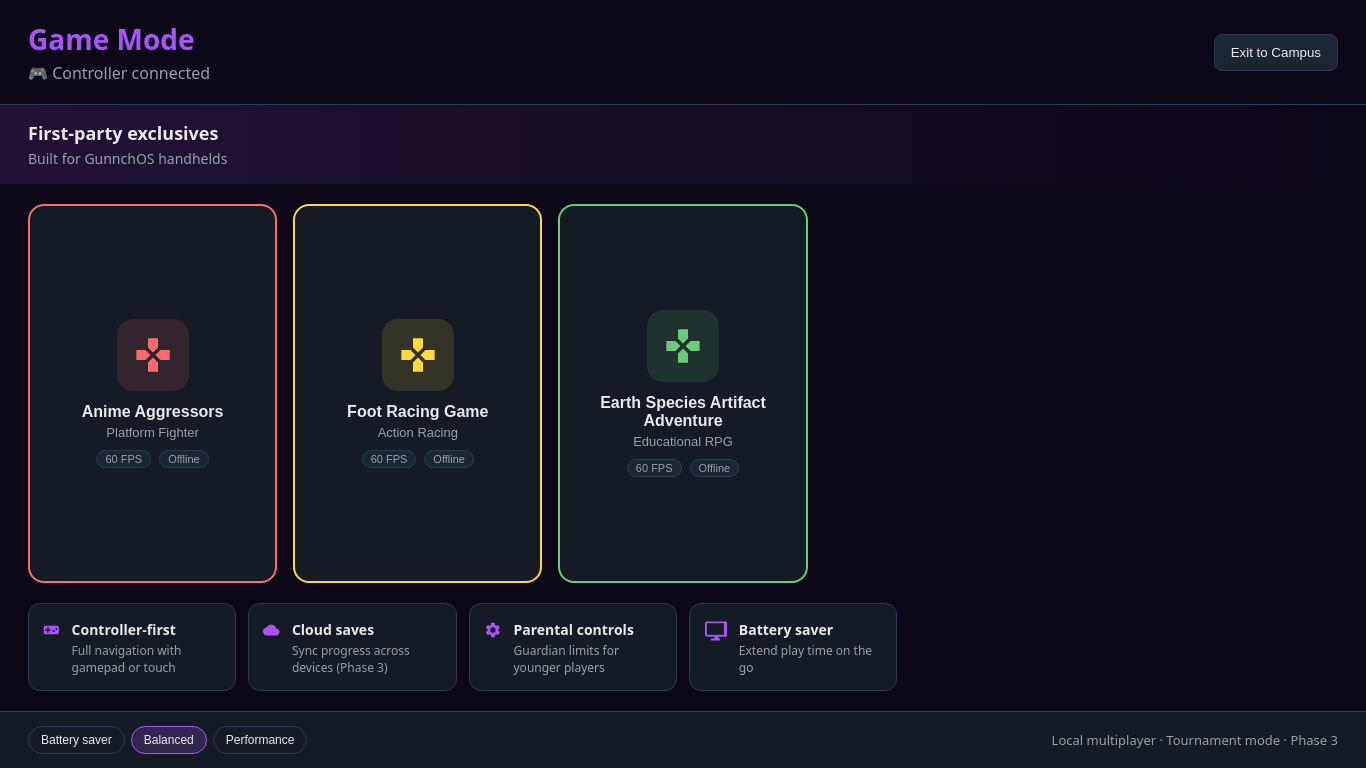
Scenario: GameMode launch adapter › shows launch readiness checklist
This screenshot has width=1366, height=768.
Click the heading "Anime Aggressors" at (153, 412), box [82,403,224,420]
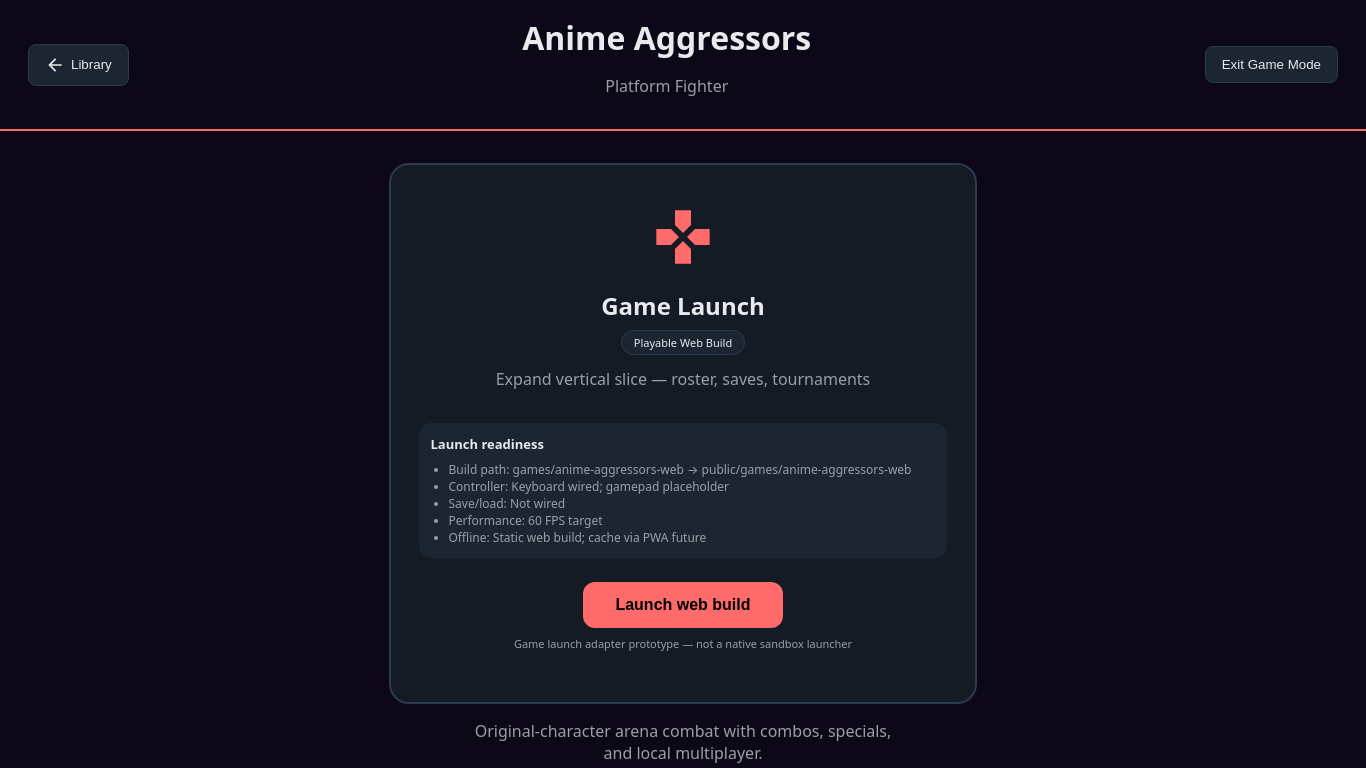
expect the element with test id "game-launch-panel" is shown: met, box [388,163,978,704]
expect the element with test id "launch-readiness-checklist" is shown: met, box [418,423,948,558]
expect the text with test id "game-readiness" reads "playable web build": met, box [634,335,732,350]
